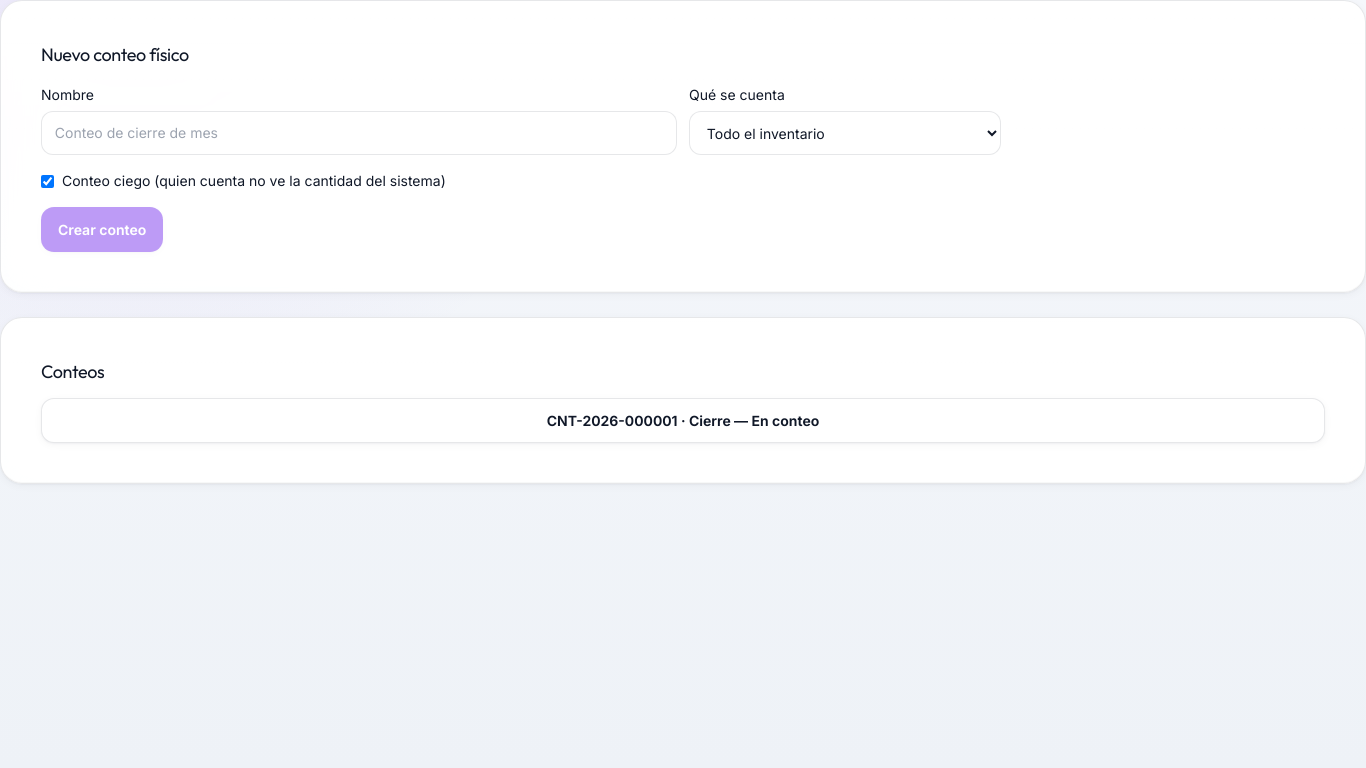
Scenario: lists counts and opens one with its progress, mismatches and decisions needed
Click the button with test id "count-row" at point(683, 420), box x1=41 y1=398 x2=1325 y2=443
(page scrolled)
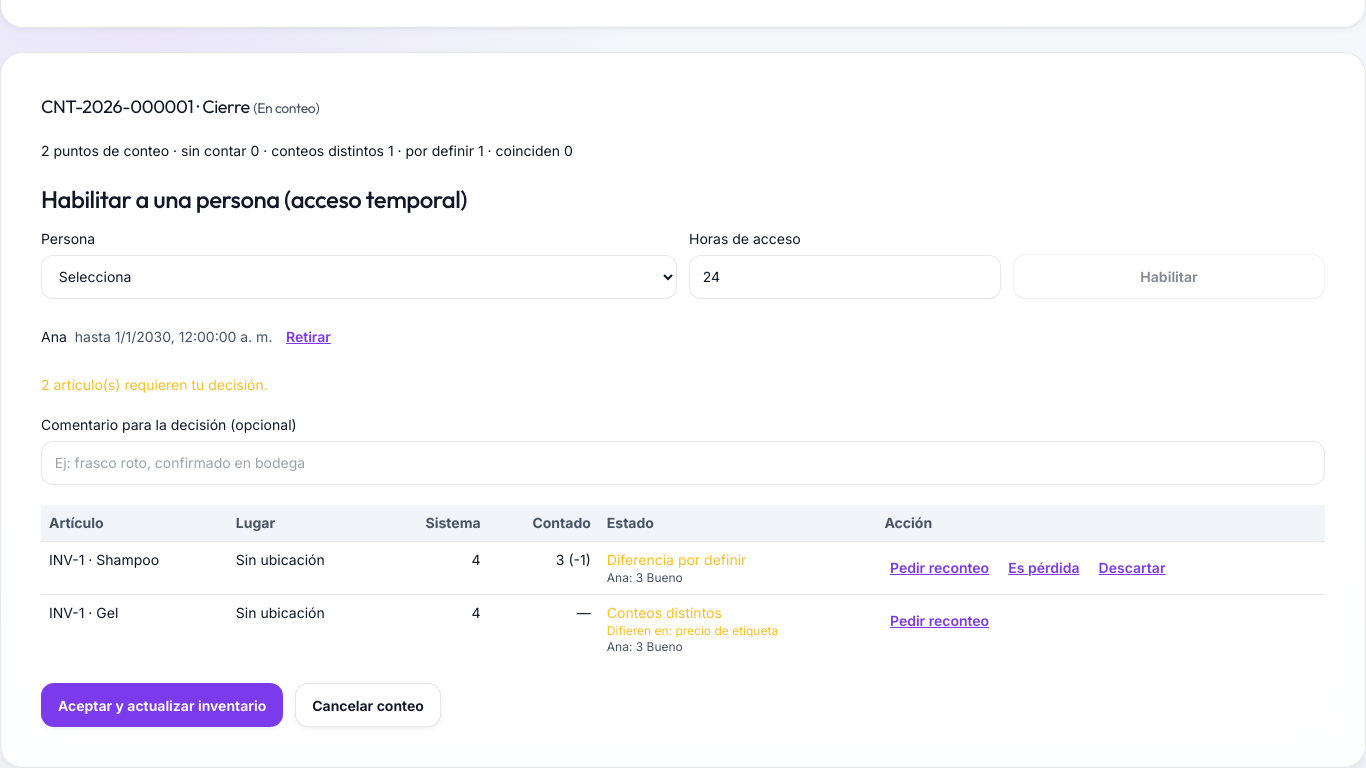
Expected: the text with test id "count-progress" shows "conteos distintos 1", x1=41 y1=142 x2=573 y2=159
Expected: the message with test id "attention" shows "2 artículo", x1=41 y1=376 x2=268 y2=393
Expected: the number of rows with test id "review-row" is 2, x1=41 y1=541 x2=1325 y2=594; x1=41 y1=594 x2=1325 y2=663
